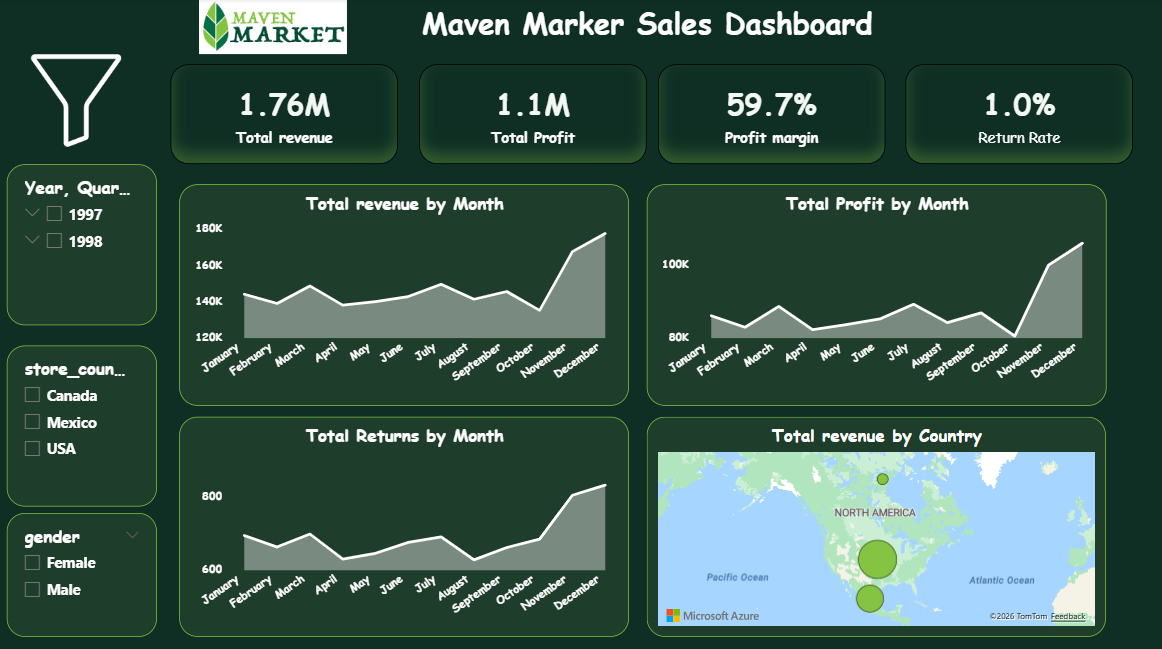

What the dashboard file says about the page in this screenshot:
{"tool":"powerbi","page":{"name":"Overview","canvas":[1280,720],"ordinal":0},"visuals":[{"type":"card","fields":{"Values":["Measur Table.Total revenue"]},"box":[189.4,72.7,249.7,109.8],"z":0},{"type":"card","fields":{"Values":["Measur Table.Total Profit"]},"box":[462.4,72.7,249.7,109.8],"z":1000},{"type":"card","fields":{"Values":["Measur Table.Profit margin"]},"box":[724.5,72.7,249.7,109.8],"z":2000},{"type":"card","fields":{"Values":["Measur Table.Return Rate"]},"box":[996.2,72.7,249.7,109.8],"z":3000},{"type":"textbox","box":[164.7,0,1096.4,72.7],"z":4000},{"type":"image","box":[183.9,0,236,61.7],"z":5000},{"type":"lineChart","fields":{"Category":["MavenMarket_Calendar.date.Variation.Date Hierarchy.Month"],"Y":["Measur Table.Total revenue"]},"box":[199,204.5,494,242.9],"z":6000},{"type":"lineChart","fields":{"Category":["MavenMarket_Calendar.date.Variation.Date Hierarchy.Month"],"Y":["Measur Table.Total Profit"]},"box":[712.2,204.5,505,242.9],"z":7000},{"type":"lineChart","fields":{"Category":["MavenMarket_Calendar.date.Variation.Date Hierarchy.Month"],"Y":["Measur Table.Total Returns"]},"box":[199,459.7,494,241.5],"z":8000},{"type":"azureMap","title":"Total revenue by Country","fields":{"Size":["Measur Table.Total revenue"],"Category":["MavenMarket_Stores.store_country"]},"box":[712.2,459.7,503.6,241.5],"z":9000},{"type":"slicer","fields":{"Values":["MavenMarket_Calendar.date.Variation.Date Hierarchy.Year","MavenMarket_Calendar.date.Variation.Date Hierarchy.Quarter","MavenMarket_Calendar.date.Variation.Date Hierarchy.Month","MavenMarket_Calendar.date.Variation.Date Hierarchy.Day"]},"box":[9.6,182.5,164.7,177],"z":10000},{"type":"slicer","fields":{"Values":["MavenMarket_Stores.store_country"]},"box":[9.6,381.5,164.7,177],"z":11000},{"type":"image","box":[9.6,61.7,155.1,101.5],"z":12000},{"type":"slicer","fields":{"Values":["MavenMarket_Customers.gender"]},"box":[9.6,565.4,164.7,135.8],"z":13000}]}

Visuals, with their boxes in screenshot pixels (x1, y1, x2, y2), scaled from the page's 1280x720 canvas onto the 1162x649 screenshot:
card - Measur Table.Total revenue: 172/66/399/165
card - Measur Table.Total Profit: 420/66/646/165
card - Measur Table.Profit margin: 658/66/884/165
card - Measur Table.Return Rate: 904/66/1131/165
textbox: 150/0/1145/66
image: 167/0/381/56
lineChart - MavenMarket_Calendar.date.Variation.Date Hierarchy.Month x Measur Table.Total revenue: 181/184/629/403
lineChart - MavenMarket_Calendar.date.Variation.Date Hierarchy.Month x Measur Table.Total Profit: 647/184/1105/403
lineChart - MavenMarket_Calendar.date.Variation.Date Hierarchy.Month x Measur Table.Total Returns: 181/414/629/632
"Total revenue by Country" azureMap: 647/414/1104/632
slicer - MavenMarket_Calendar.date.Variation.Date Hierarchy.Year x MavenMarket_Calendar.date.Variation.Date Hierarchy.Quarter: 9/165/158/324
slicer - MavenMarket_Stores.store_country: 9/344/158/503
image: 9/56/150/147
slicer - MavenMarket_Customers.gender: 9/510/158/632
